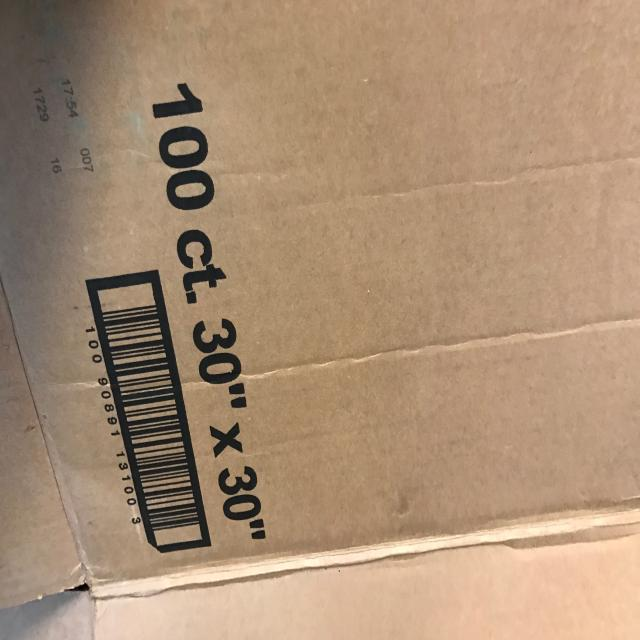cardboard: (1, 0, 639, 606)
